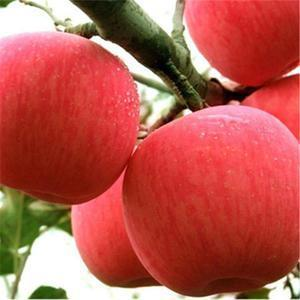apple: (121, 105, 300, 296), (1, 33, 137, 211), (189, 1, 300, 88), (68, 184, 154, 289)
